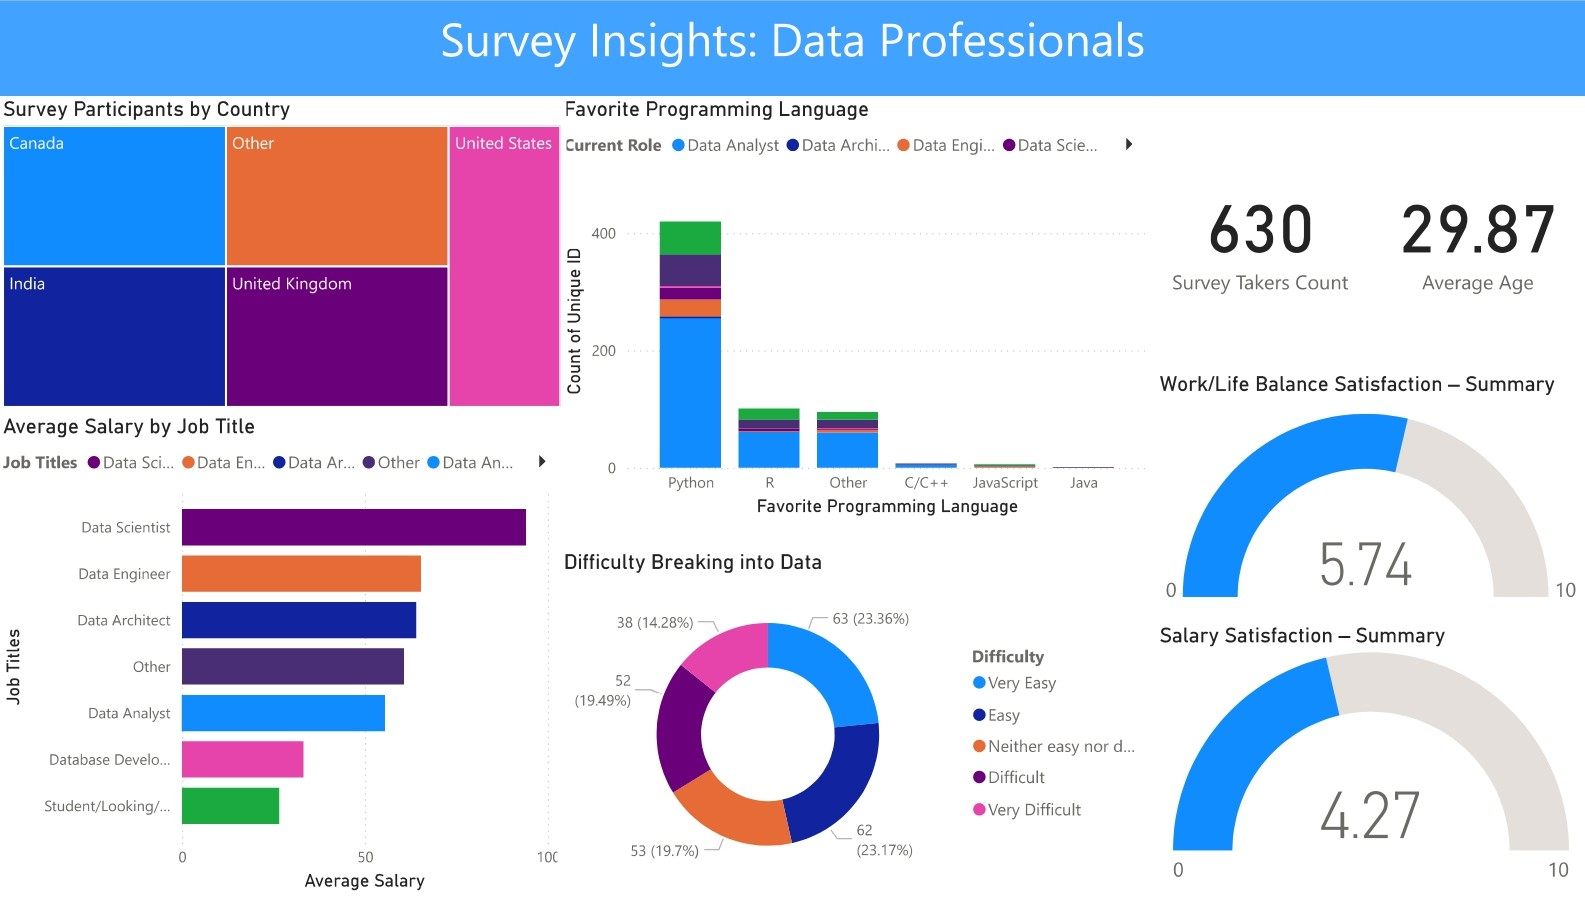

What the dashboard file says about the page in this screenshot:
{"tool":"powerbi","page":{"name":"Page 1","canvas":[1280,720],"ordinal":0},"visuals":[{"type":"textbox","box":[0,0,1280.3,76.8],"z":0},{"type":"card","fields":{"Values":["Count(Data Professional Survey.Unique ID)"]},"box":[929.9,76.8,172.5,221],"z":1000},{"type":"card","fields":{"Values":["Avg(Data Professional Survey.Q10 - Current Age)"]},"box":[1102.4,76.8,177.9,221],"z":2000},{"type":"barChart","title":"Average Salary by Job Title","fields":{"Category":["Data Professional Survey.Q1 - Which Title Best Fits your Current Role?.1"],"Y":["Avg(Data Professional Survey.Average Salary)"],"Series":["Data Professional Survey.Q1 - Which Title Best Fits your Current Role?.1"]},"box":[0,331.5,458.2,388.1],"z":3000},{"type":"columnChart","title":"Favorite Programming Language","fields":{"Category":["Data Professional Survey.Q5 - Favorite Programming Language.1"],"Y":["CountNonNull(Data Professional Survey.Unique ID)"],"Series":["Data Professional Survey.Q1 - Which Title Best Fits your Current Role?.1"]},"box":[451.5,76.8,478.4,342.3],"z":4000},{"type":"treemap","title":"Survey Participants by Country","fields":{"Group":["Data Professional Survey.Q11 - Which Country do you live in?.1"],"Values":["Count(Data Professional Survey.Q11 - Which Country do you live in?.1)"]},"box":[0,76.8,458.2,254.7],"z":5000},{"type":"gauge","title":"Work/Life Balance Satisfaction – Summary","fields":{"Y":["Avg(Data Professional Survey.Q6 - How Happy are you in your Current Position with the following? (Work/Life Balance))"],"MinValue":["Min(Data Professional Survey.Q6 - How Happy are you in your Current Position with the following? (Work/Life Balance))1"],"MaxValue":["Max(Data Professional Survey.Q6 - How Happy are you in your Current Position with the following? (Work/Life Balance))2"]},"box":[929.9,297.8,350.4,202.1],"z":6000},{"type":"gauge","title":"Salary Satisfaction – Summary","fields":{"Y":["Avg(Data Professional Survey.Q6 - How Happy are you in your Current Position with the following? (Salary))"],"MinValue":["Min(Data Professional Survey.Q6 - How Happy are you in your Current Position with the following? (Salary))"],"MaxValue":["Max(Data Professional Survey.Q6 - How Happy are you in your Current Position with the following? (Salary))"]},"box":[929.9,500,350.4,219.7],"z":7000},{"type":"donutChart","title":"Difficulty Breaking into Data","fields":{"Category":["Data Professional Survey.Q7 - How difficult was it for you to break into Data?"],"Y":["Avg(Data Professional Survey.Average Salary)"]},"box":[451.5,440.7,478.4,279],"z":8000}]}

Visuals, with their boxes on the page's 1280x720 design canvas (x1, y1, x2, y2). These are canvas units, not pixel positions in the 1585x922 screenshot, which may show the page scaled, cropped or inside an application window:
textbox: (left=0, top=0, right=1280, bottom=77)
card - Count(Data Professional Survey.Unique ID): (left=930, top=77, right=1102, bottom=298)
card - Avg(Data Professional Survey.Q10 - Current Age): (left=1102, top=77, right=1280, bottom=298)
"Average Salary by Job Title" barChart: (left=0, top=332, right=458, bottom=720)
"Favorite Programming Language" columnChart: (left=452, top=77, right=930, bottom=419)
"Survey Participants by Country" treemap: (left=0, top=77, right=458, bottom=332)
"Work/Life Balance Satisfaction – Summary" gauge: (left=930, top=298, right=1280, bottom=500)
"Salary Satisfaction – Summary" gauge: (left=930, top=500, right=1280, bottom=720)
"Difficulty Breaking into Data" donutChart: (left=452, top=441, right=930, bottom=720)
